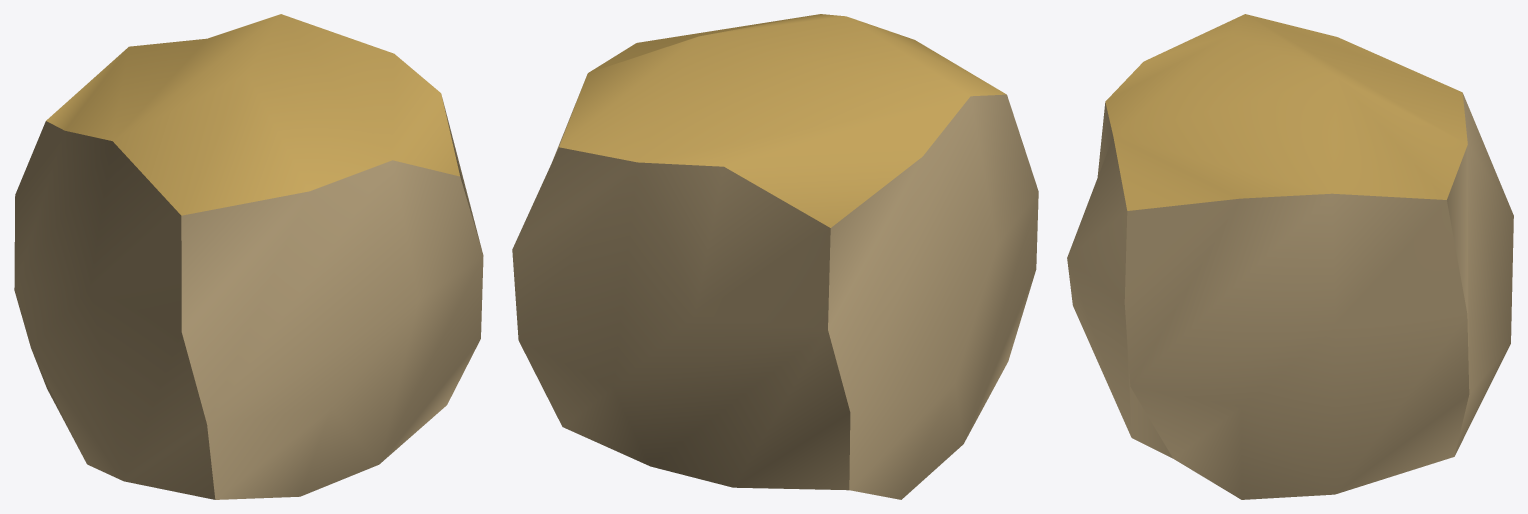
The model's file is Crumb_v2.fbx.
3 renders of one model, left to right at view 1: azimuth 30°, elevation 25°; view 2: azimuth 150°, elevation 25°; view 3: azimuth 270°, elevation 25°, orthographic. The views are drawn at different scales.
Parts seen in each view (by area): view 1: Cube; view 2: Cube; view 3: Cube.
Part boxes in pixels (left/top/right/bottom): Cube: left=14, top=14, right=483, bottom=499; Cube: left=512, top=14, right=1038, bottom=499; Cube: left=1067, top=14, right=1513, bottom=499.
Bounding box in the file's own units: 59.55 × 57.85 × 58.72.
